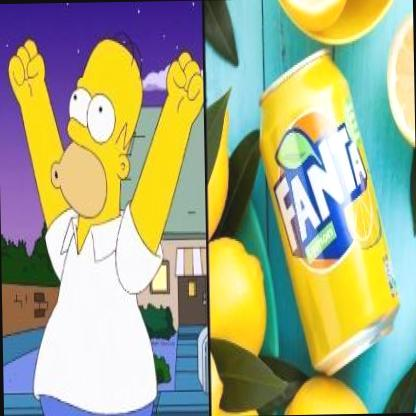alumunium_can: (255, 47, 400, 381)
